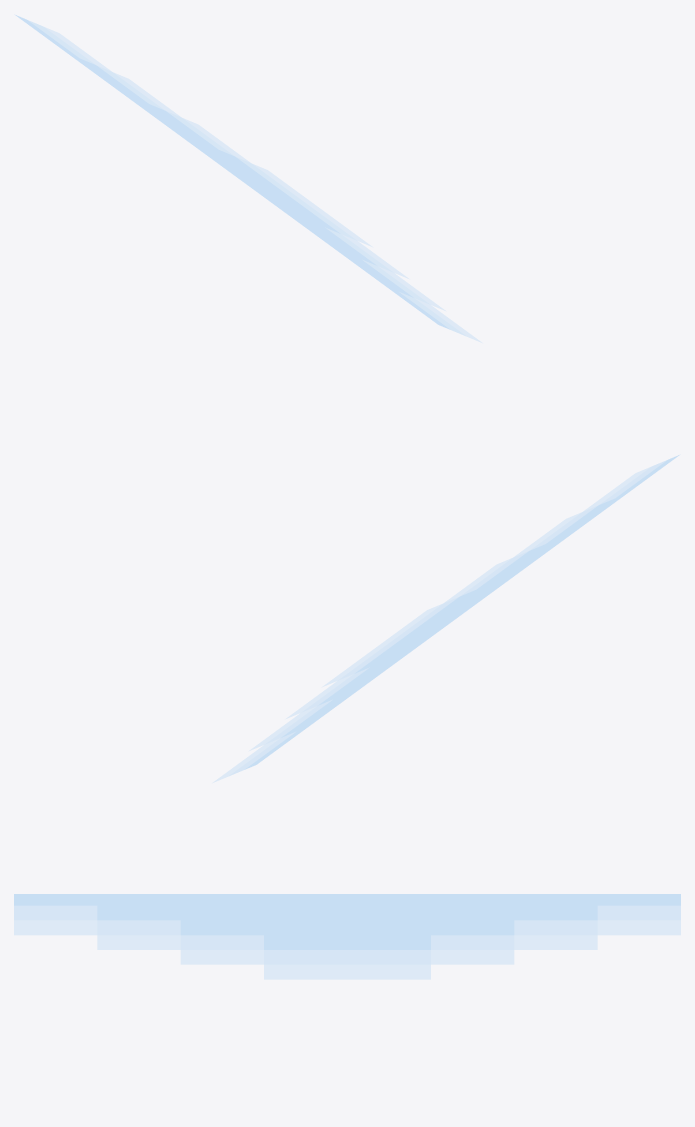
The picture shows the model from 3 angles, top to bottom: view 1: azimuth 30°, elevation 25°; view 2: azimuth 150°, elevation 25°; view 3: azimuth 270°, elevation 25°; orthographic projection. The views are drawn at different scales.
Bounding box in the file's own units: 0.3301 × 0.2081 × 1.
Materials: 1 (1 with a texture image).
